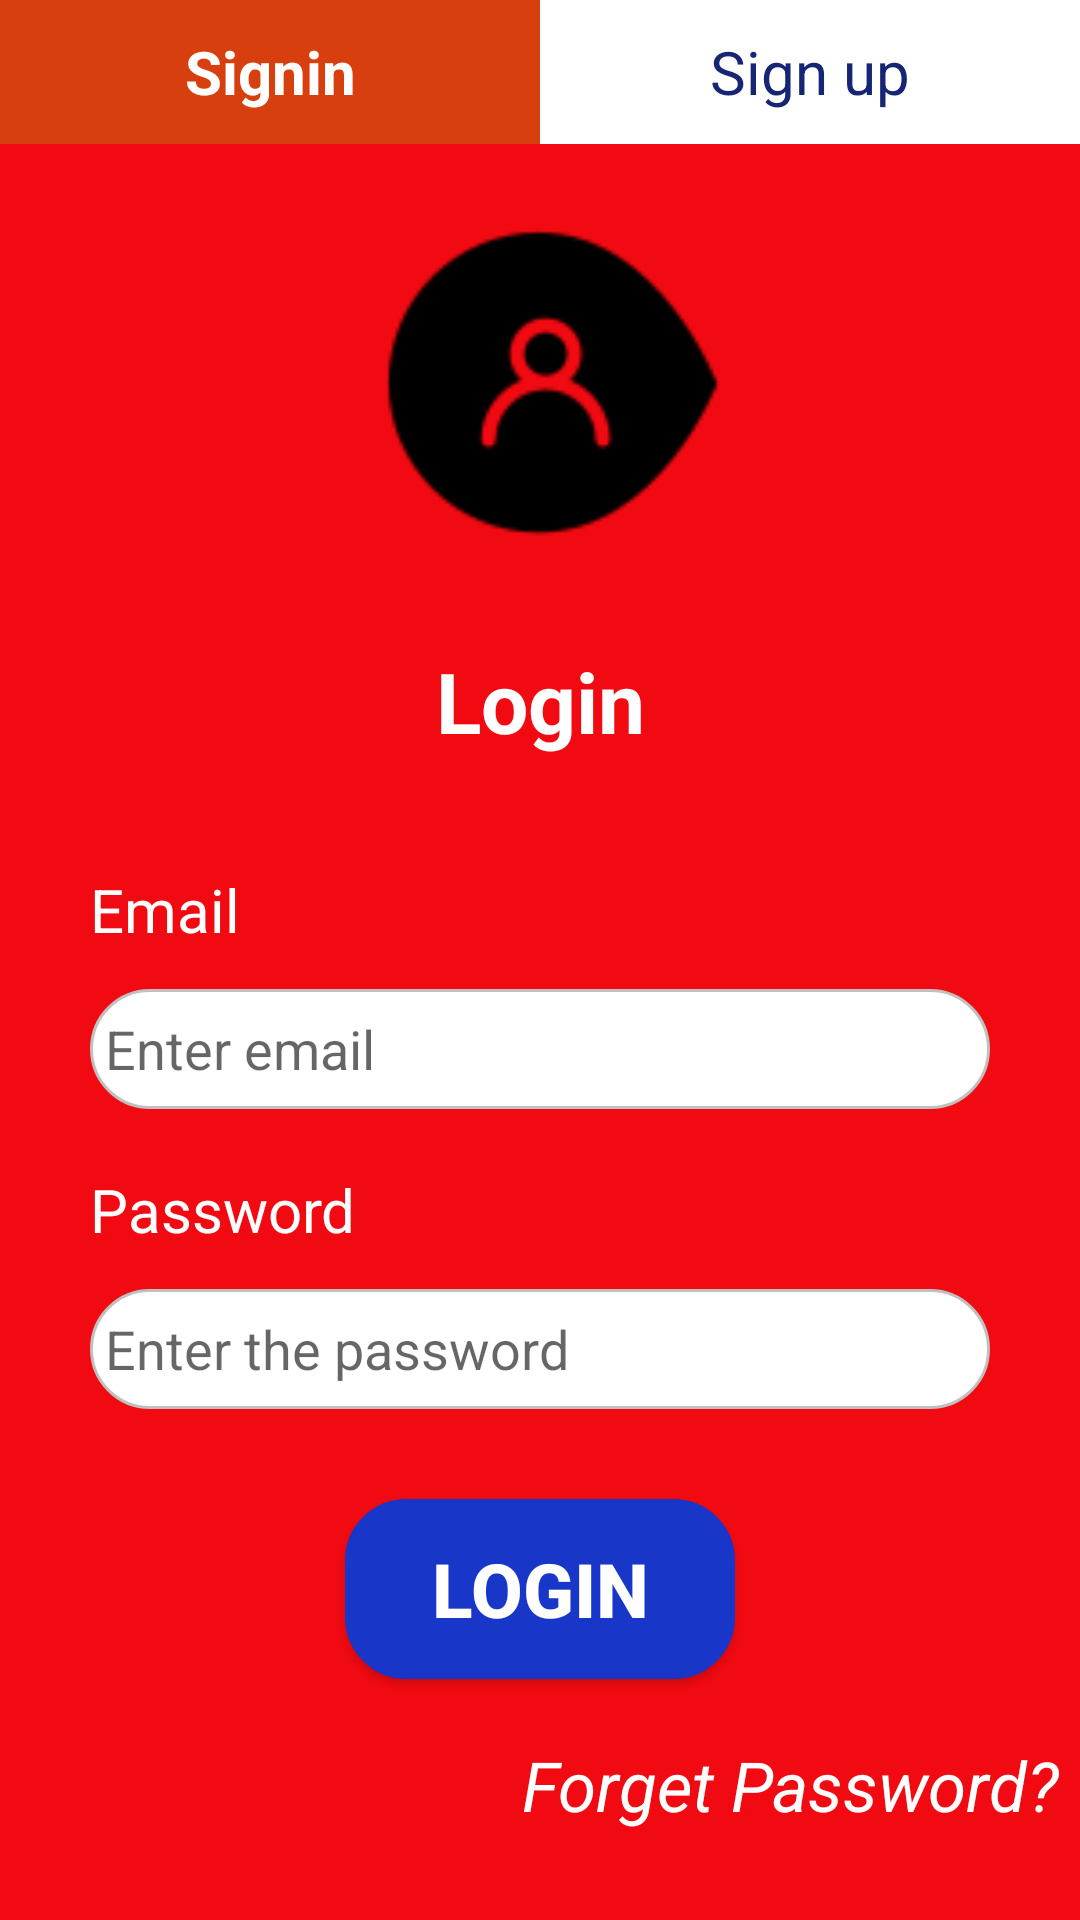

Icons on this 1080*1920 Android screen, each with the point to tap as (x,y):
user: (552,383)
